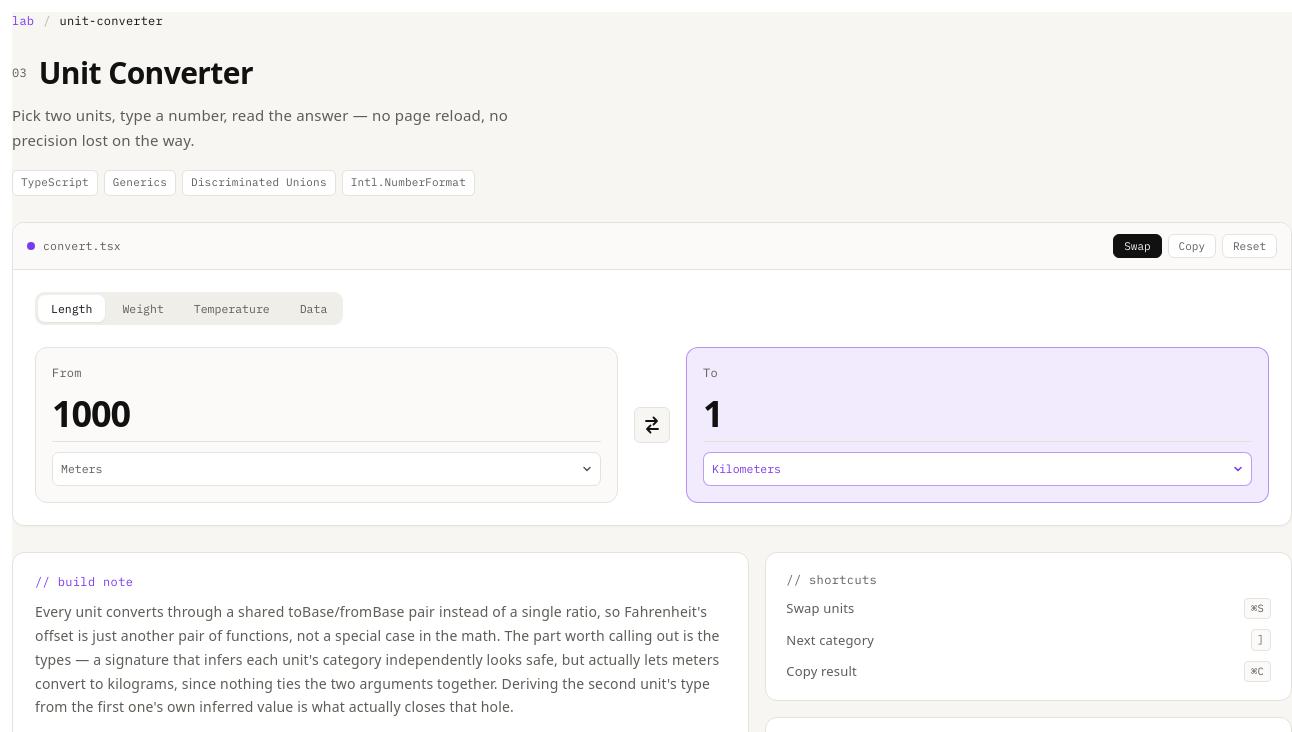
Test: UnitConverterPage › switches to the new Data category, converting 1 megabyte to mebibytes
Step 1. Click the tab "Data" → [314, 309], box top-left (287, 295), bottom-right (340, 322)
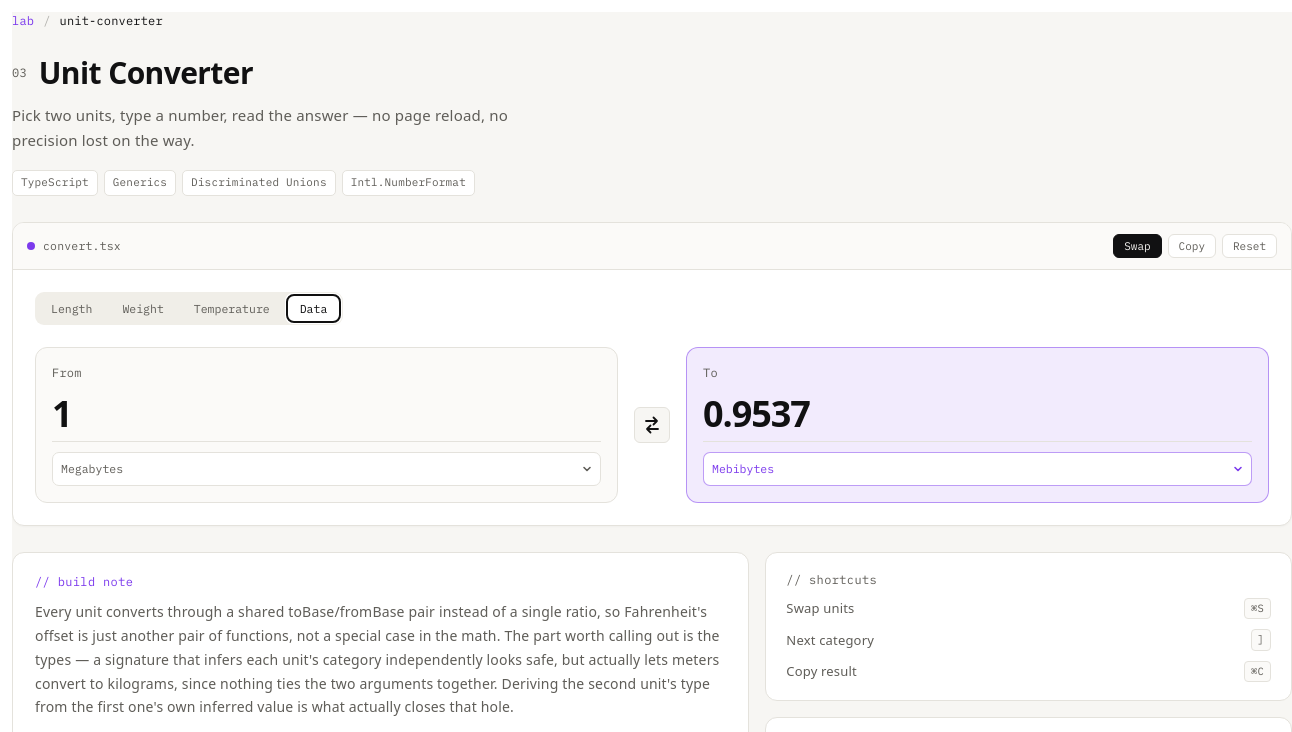
expect the field labelled "From" holds "1": met, box top-left (52, 392), bottom-right (601, 442)
expect the dropdown named "From unit" shows "Megabytes": met, box top-left (52, 452), bottom-right (601, 486)
expect the dropdown named "To unit" shows "Mebibytes": met, box top-left (703, 452), bottom-right (1252, 486)
